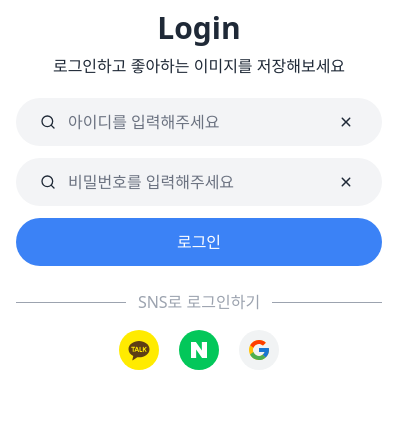
Test: SigninForm 테스트 › 입력이 비어있을 때 submit을 시도하면 에러 메시지가 표시된다
What coordinates should you click on to do the following:
click the button with test id "signin"
I would click on:
 (199, 242)
Its box is x1=16 y1=218 x2=382 y2=266.
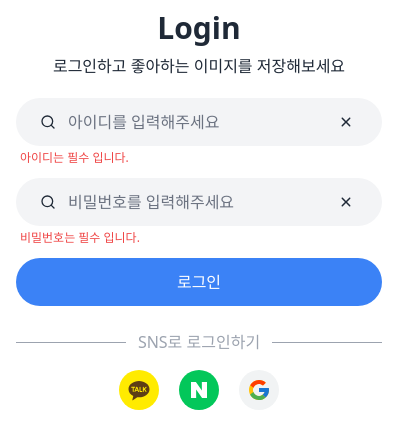
Now the text "아이디는 필수 입니다." is shown, box x1=20 y1=149 x2=129 y2=166
Now the text "비밀번호는 필수 입니다." is shown, box x1=20 y1=229 x2=140 y2=246
